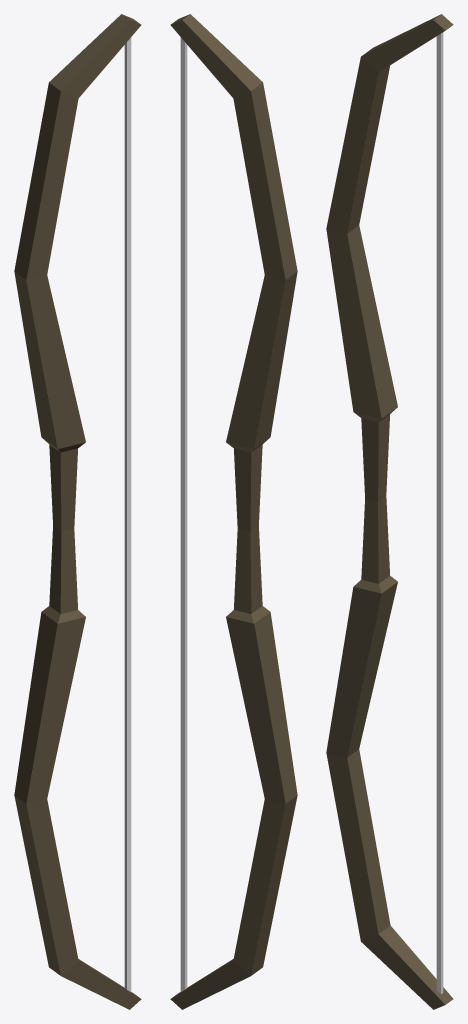
The model's file is Bow.fbx.
3 views of the same model, side by side, from view 1: azimuth 30°, elevation 25°; view 2: azimuth 150°, elevation 25°; view 3: azimuth 330°, elevation 25° (orthographic).
Parts seen in each view (by area): view 1: Bow; view 2: Bow; view 3: Bow.
Part boxes in pixels (x1,y1,x2,y2): Bow: (14, 14, 141, 1009); Bow: (170, 14, 297, 1009); Bow: (326, 14, 453, 1009).
Bounding box in the file's own units: 0.2218 × 1.79 × 0.0536.
